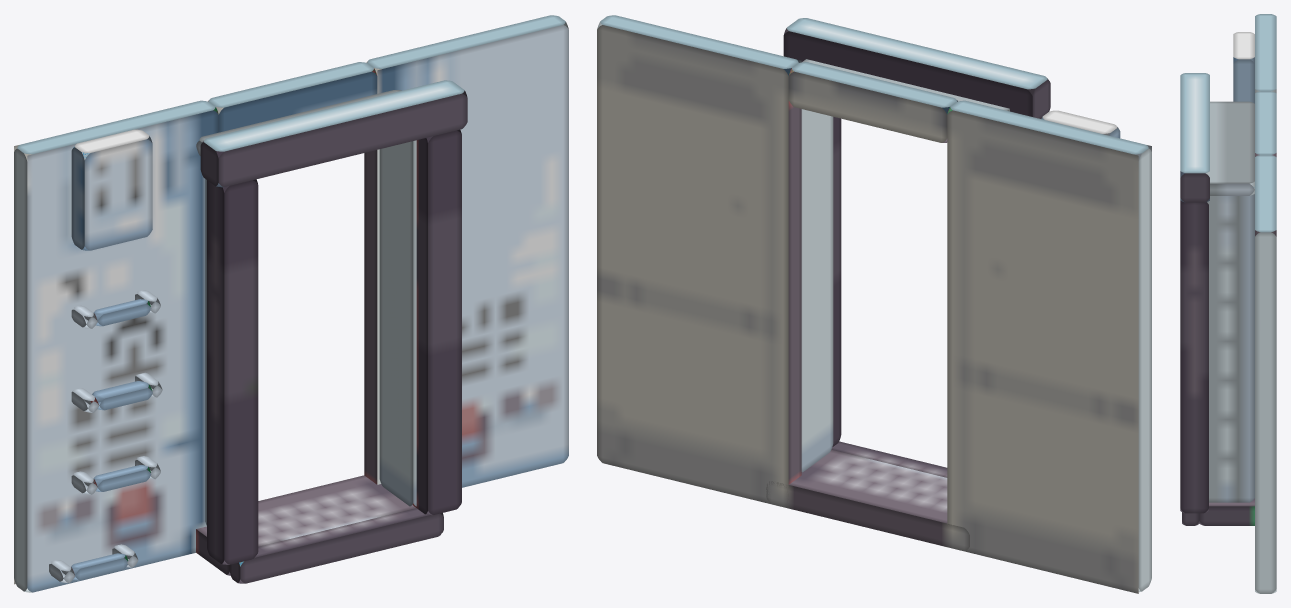
File: end_face_original_rubber_25t_3.obj
3 renders of one model, left to right at view 1: azimuth 30°, elevation 25°; view 2: azimuth 150°, elevation 25°; view 3: azimuth 270°, elevation 25°, orthographic. The views are drawn at different scales.
Visible parts, largest first — view 1: cube; view 2: cube; view 3: cube.
Boxes of the visible parts, left/top/right/bottom form: cube: left=14, top=15, right=568, bottom=592; cube: left=597, top=15, right=1151, bottom=593; cube: left=1180, top=14, right=1276, bottom=593.
Size of the model in its own units: 2.99 by 2.31 by 0.5562.
